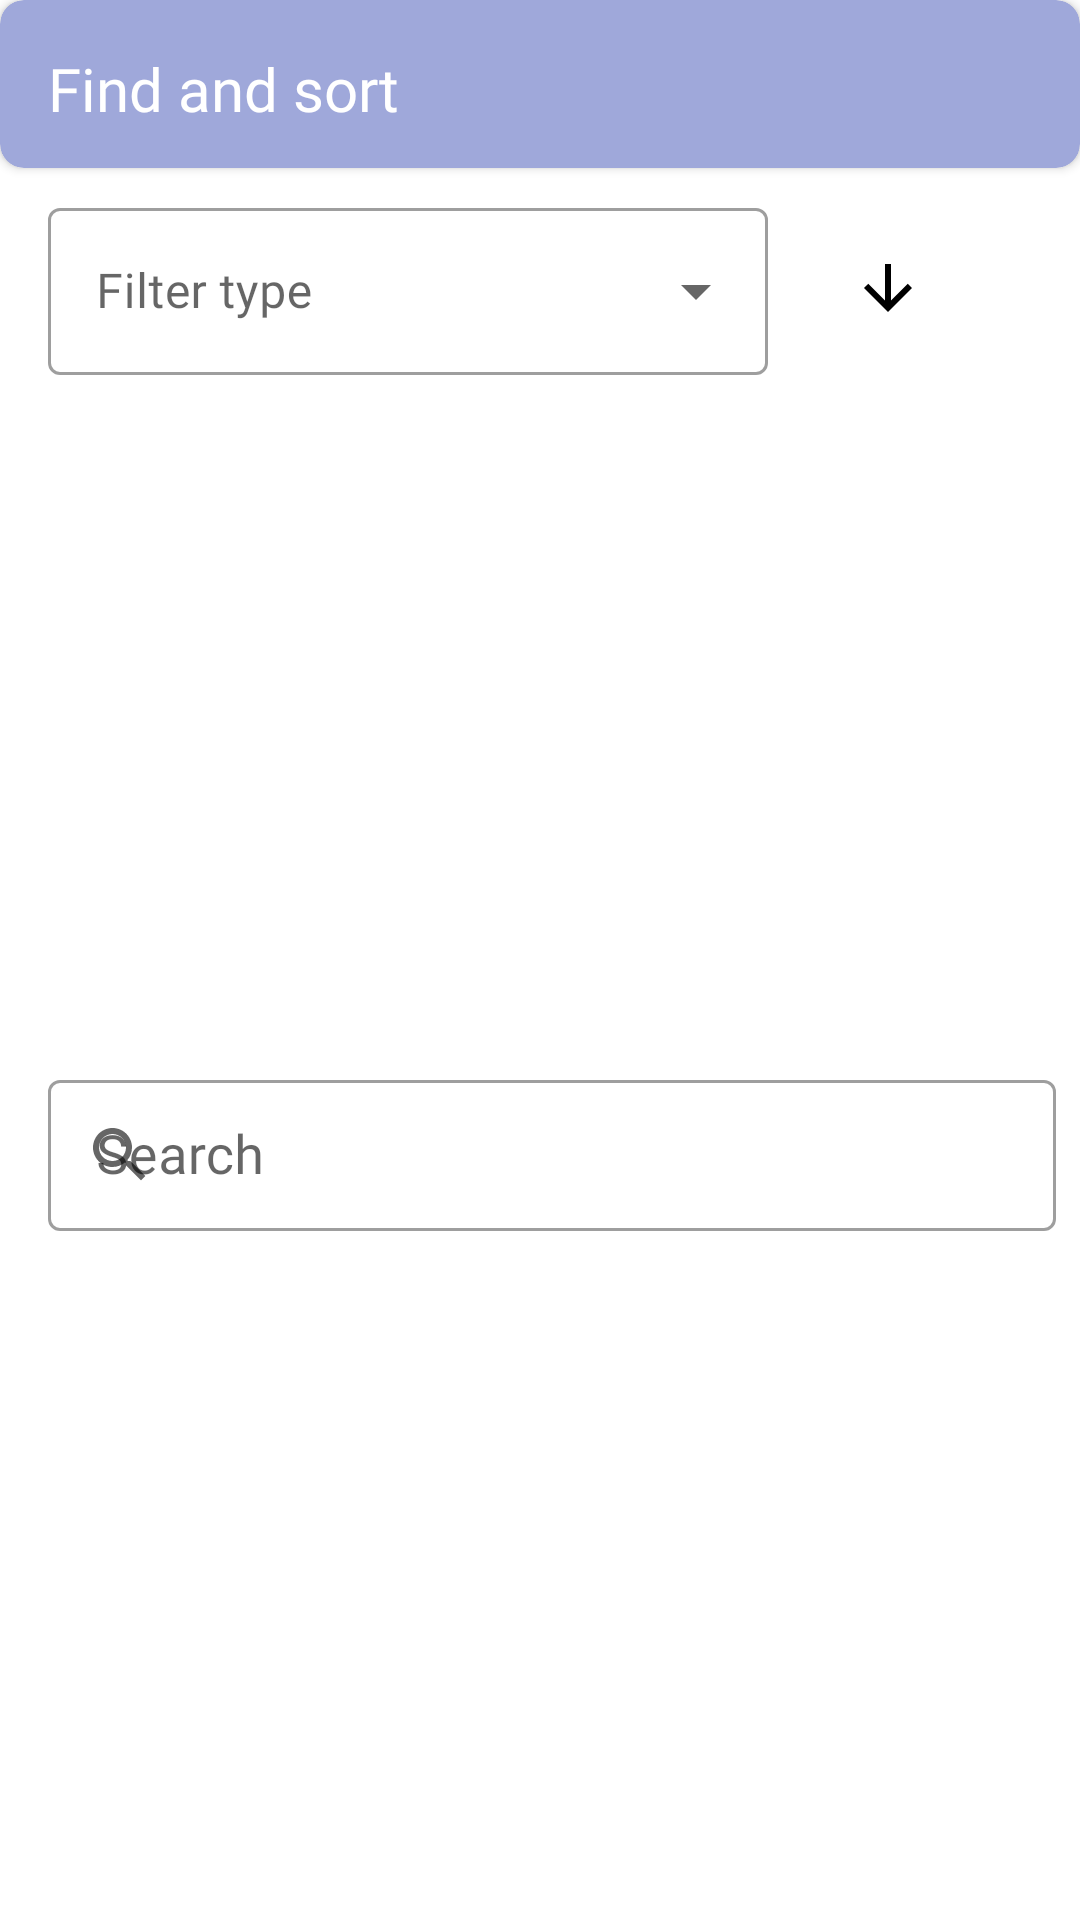

Screen size 1080x1920. Icon name, then its box in pixels as (x1, y1, x2, y2):
arrow downward: (864, 264, 912, 312)
